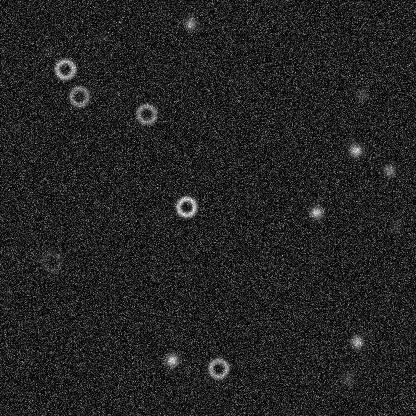Ring: (174, 194, 198, 218), (39, 249, 63, 273), (134, 101, 158, 125), (206, 356, 230, 380), (52, 57, 76, 81), (66, 84, 90, 108)
Spot: (348, 333, 364, 349), (93, 29, 109, 45), (39, 43, 55, 59), (381, 162, 397, 178), (163, 352, 179, 368), (347, 142, 363, 158), (354, 86, 370, 102), (339, 371, 355, 387), (308, 204, 324, 220), (182, 15, 198, 31), (388, 219, 404, 235)
